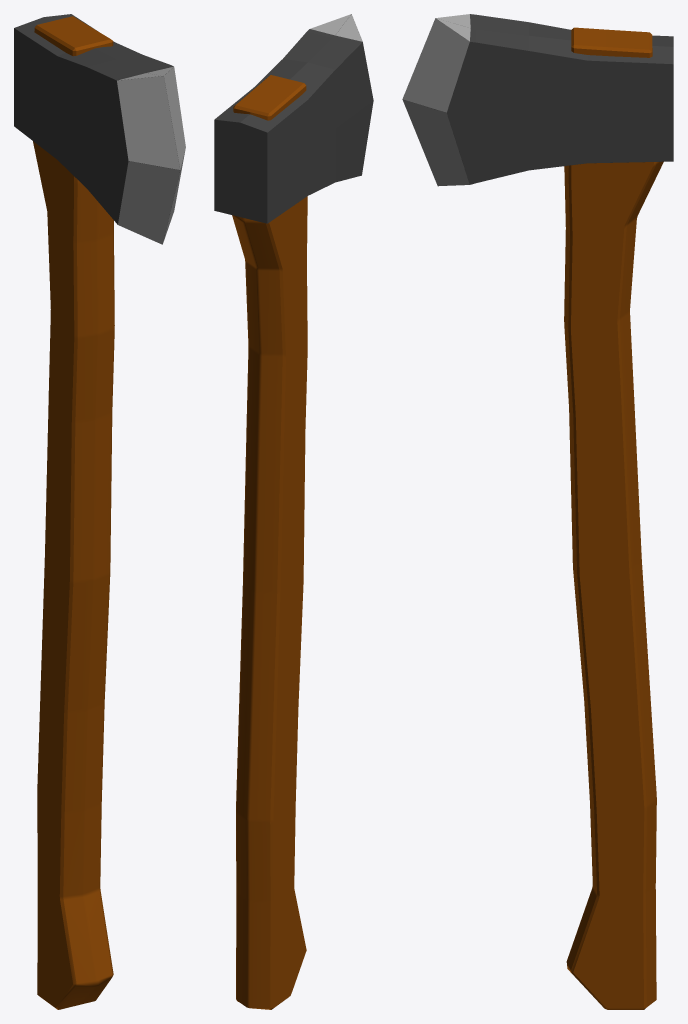
File: Destruction_Model_Axe.fbx
The picture shows the model from 3 angles, left to right: view 1: azimuth 30°, elevation 25°; view 2: azimuth 150°, elevation 25°; view 3: azimuth 270°, elevation 25°; orthographic projection. The views are drawn at different scales.
Parts seen in each view (by area): view 1: pPlane1, pPlane2; view 2: pPlane1, pPlane2; view 3: pPlane1, pPlane2.
Boxes of the visible parts, x1,y1,x2,y2 form: pPlane1: [33, 16, 114, 1009]; pPlane2: [14, 14, 185, 244]; pPlane1: [232, 75, 307, 1009]; pPlane2: [214, 14, 373, 223]; pPlane1: [564, 27, 663, 1009]; pPlane2: [402, 14, 673, 186].
Bounding box in the file's own units: 0.4731 × 7.81 × 1.95.
